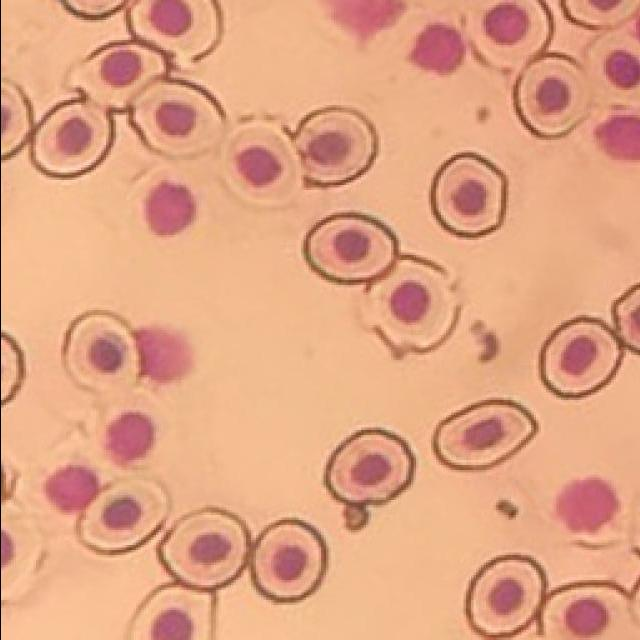RBC: (361, 255, 458, 359), (431, 400, 536, 470), (158, 509, 248, 590), (75, 479, 168, 554), (130, 82, 222, 156), (302, 214, 396, 285), (292, 108, 375, 188), (511, 54, 589, 139), (539, 318, 621, 398), (464, 555, 543, 638), (429, 152, 505, 238), (324, 430, 412, 504), (69, 41, 166, 108), (30, 99, 111, 179), (222, 121, 297, 206), (61, 311, 139, 391), (250, 519, 325, 602), (540, 581, 639, 640), (126, 0, 219, 62), (466, 0, 549, 69), (125, 585, 212, 640), (584, 31, 640, 108), (1, 80, 31, 160), (559, 0, 639, 30), (611, 284, 640, 355)
WBC: (554, 478, 617, 532), (321, 0, 403, 39), (132, 329, 190, 382), (409, 24, 462, 75), (144, 181, 193, 236), (42, 465, 97, 512), (105, 412, 152, 464), (594, 116, 639, 160)
